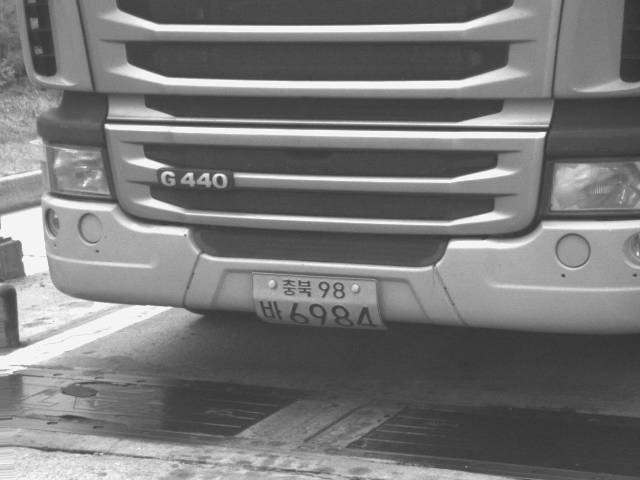car: (14, 1, 639, 347)
plate: (249, 272, 390, 333)
